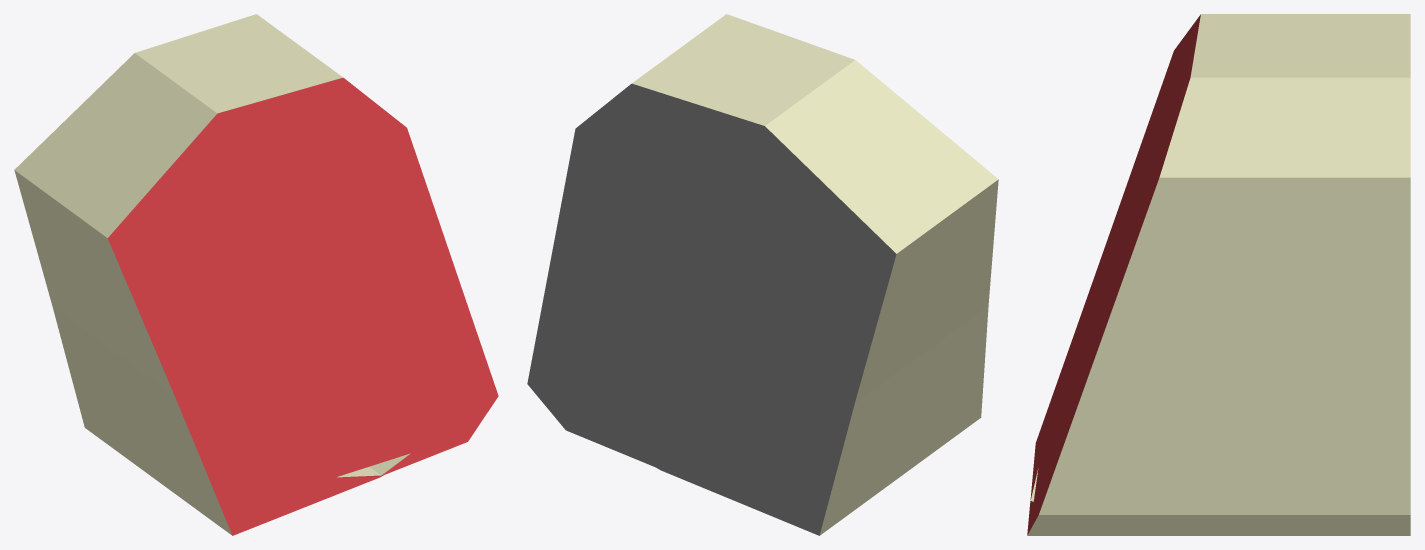
3 views of the same model, side by side, from view 1: azimuth 30°, elevation 25°; view 2: azimuth 150°, elevation 25°; view 3: azimuth 270°, elevation 25° (orthographic). The views are drawn at different scales.
Parts seen in each view (by area): view 1: G1_sedlova; view 2: G1_sedlova; view 3: G1_sedlova.
Part boxes in pixels (x1,y1,x2,y2): G1_sedlova: (14, 14, 498, 535); G1_sedlova: (527, 14, 998, 535); G1_sedlova: (1027, 14, 1410, 535).
Size of the model in its own units: 14.38 by 15.12 by 11.15.
